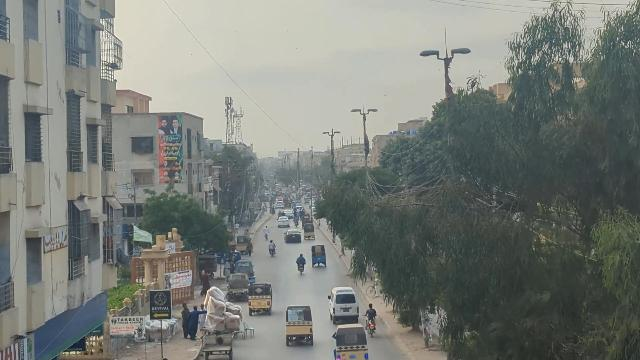Bike: (367, 319, 377, 338), (298, 263, 305, 274)
Cart: (201, 330, 236, 360)
Person: (187, 304, 199, 341), (195, 300, 208, 333), (178, 300, 189, 337), (364, 301, 378, 323), (297, 252, 305, 265)
Rickshaw: (282, 303, 318, 347), (331, 323, 370, 360), (248, 282, 272, 316), (310, 243, 327, 269)
Suzuki: (227, 272, 249, 301)
Van: (325, 286, 362, 324)
